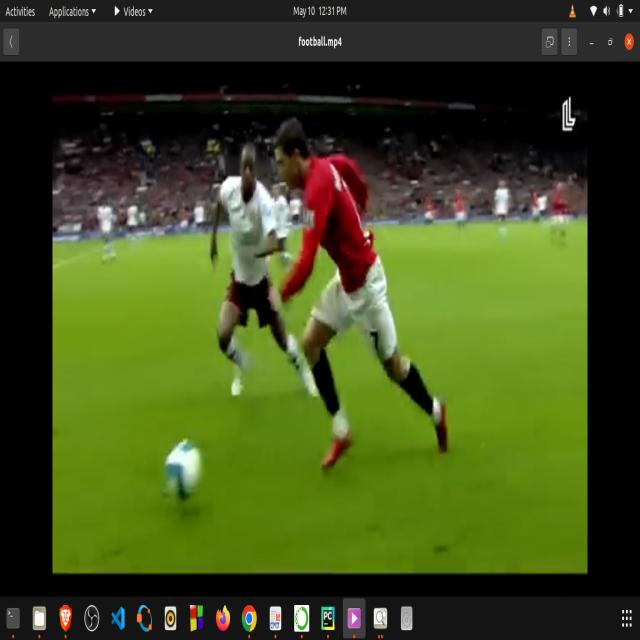Ball: (155, 429, 221, 527)
football-players: (265, 113, 465, 479), (204, 134, 319, 409)
